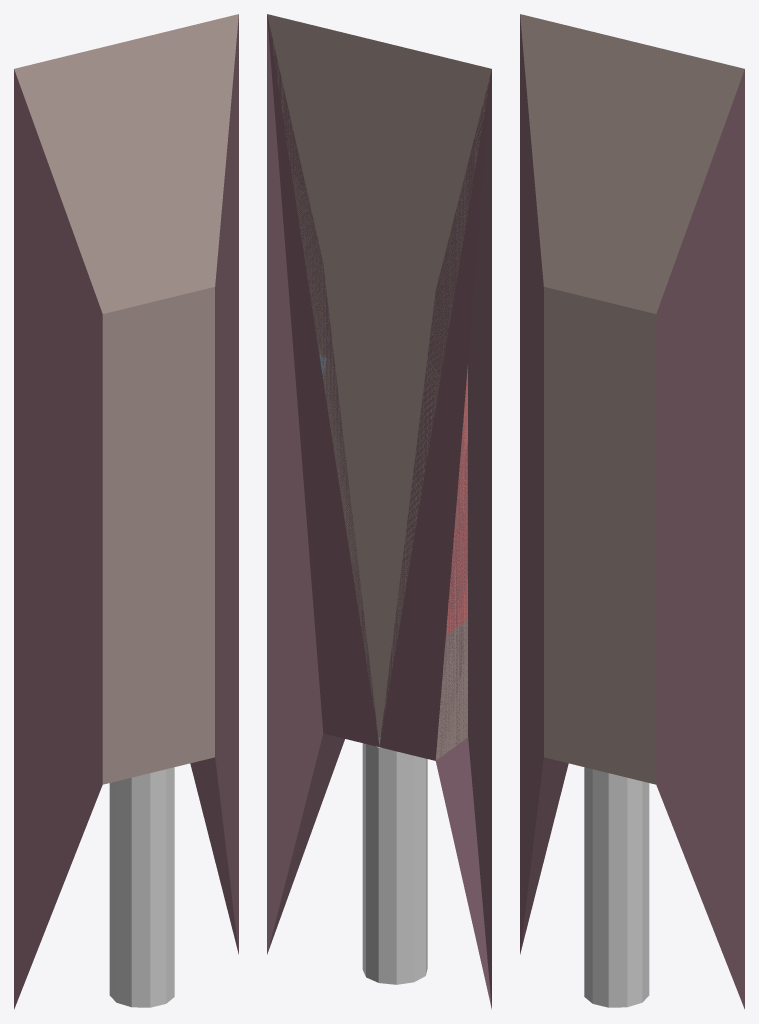
Rendered from sword.fbx.
The picture shows the model from 3 angles, left to right: view 1: azimuth 30°, elevation 25°; view 2: azimuth 150°, elevation 25°; view 3: azimuth 330°, elevation 25°; orthographic projection.
Parts seen in each view (by area): view 1: plane, cylinder; view 2: plane, cylinder; view 3: plane, cylinder.
Part boxes in pixels (left/top/right/bottom): plane: left=14, top=14, right=238, bottom=1009; cylinder: left=109, top=767, right=174, bottom=1007; plane: left=267, top=14, right=491, bottom=1009; cylinder: left=362, top=743, right=427, bottom=984; plane: left=520, top=14, right=744, bottom=1009; cylinder: left=584, top=767, right=649, bottom=1007.
Bounding box in the file's own units: 12.5 × 50 × 3.19.
1 material, 1 textured.
